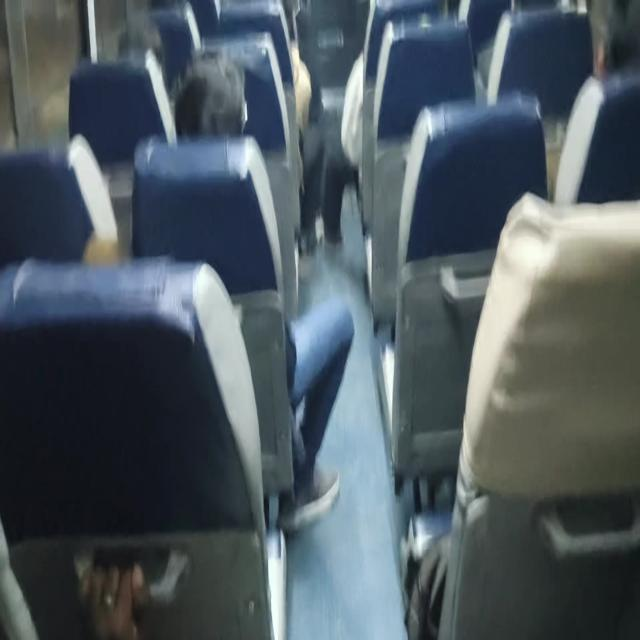person: (573, 0, 640, 77), (190, 72, 252, 140), (116, 15, 166, 66), (271, 0, 307, 50)
